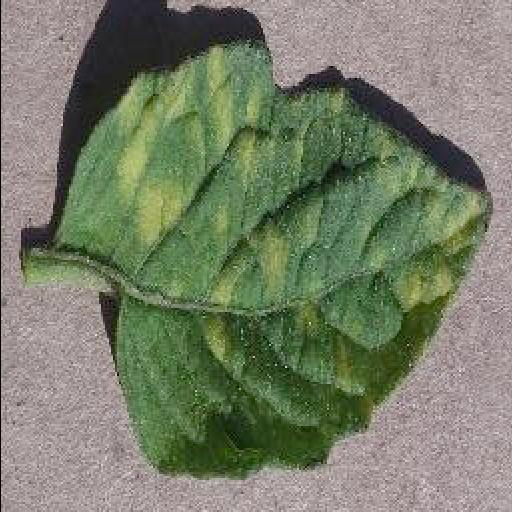disease_tomato: (49, 48, 495, 482)
